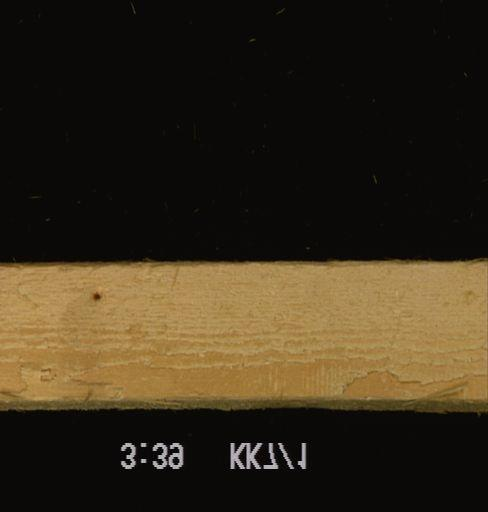small_knot: (87, 288, 103, 304)
